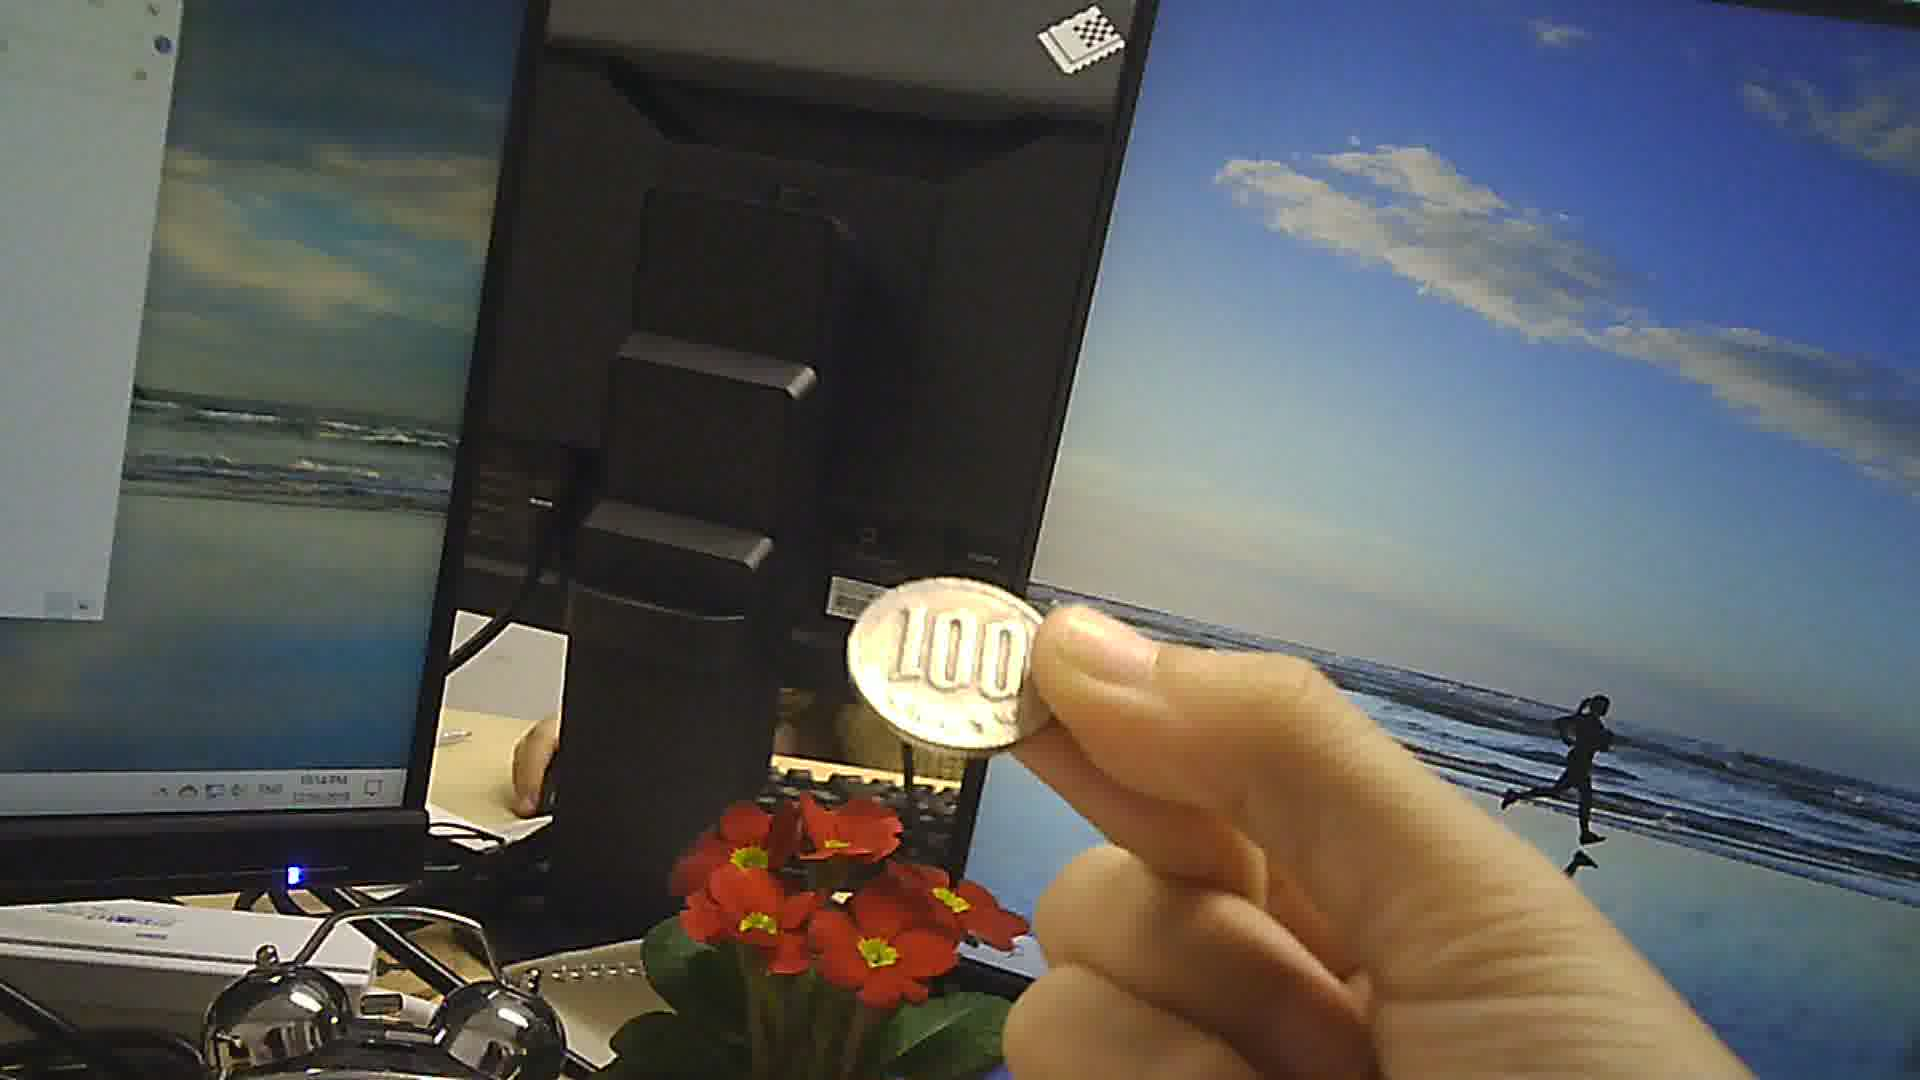100 Yen: (843, 572, 1068, 760)
